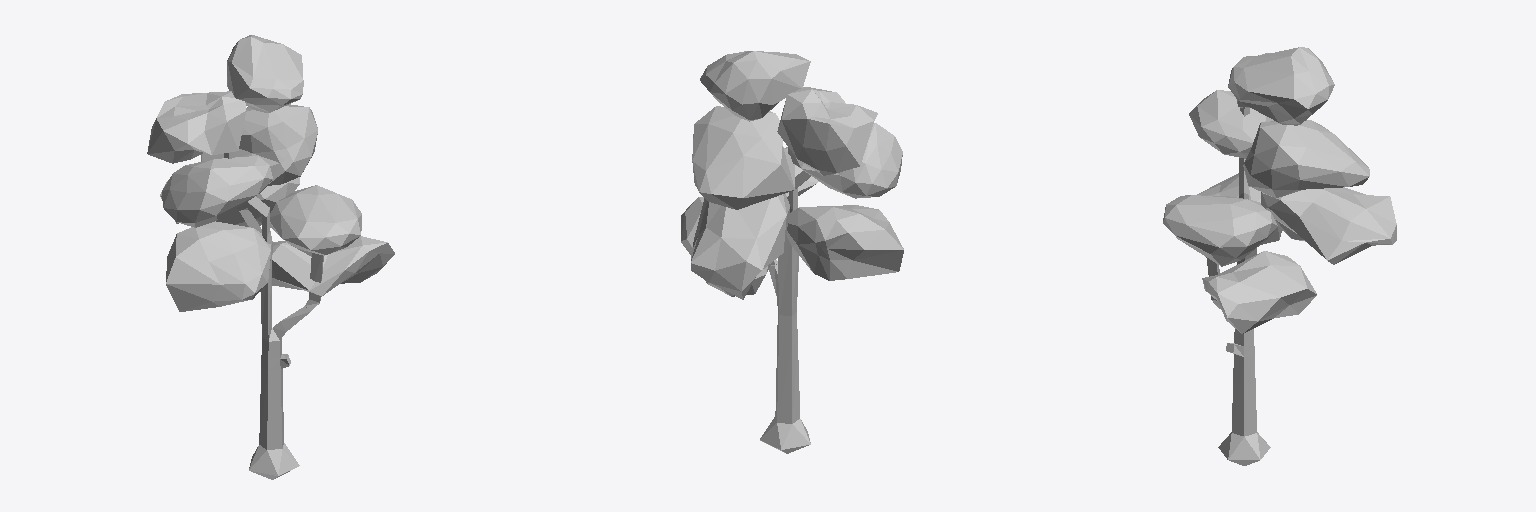
Rendered from tree-maple-low-poly-Anim.obj.
3 views of the same model, side by side, from view 1: azimuth 30°, elevation 25°; view 2: azimuth 150°, elevation 25°; view 3: azimuth 270°, elevation 25° (orthographic).
Visible parts, largest first — view 1: Icosphere.001; view 2: Icosphere.001; view 3: Icosphere.001.
Part boxes in pixels (x1,y1,x2,y2): Icosphere.001: (147, 35, 394, 479); Icosphere.001: (681, 51, 903, 453); Icosphere.001: (1163, 47, 1396, 465).
Bounding box in the file's own units: 770 × 1369 × 690.